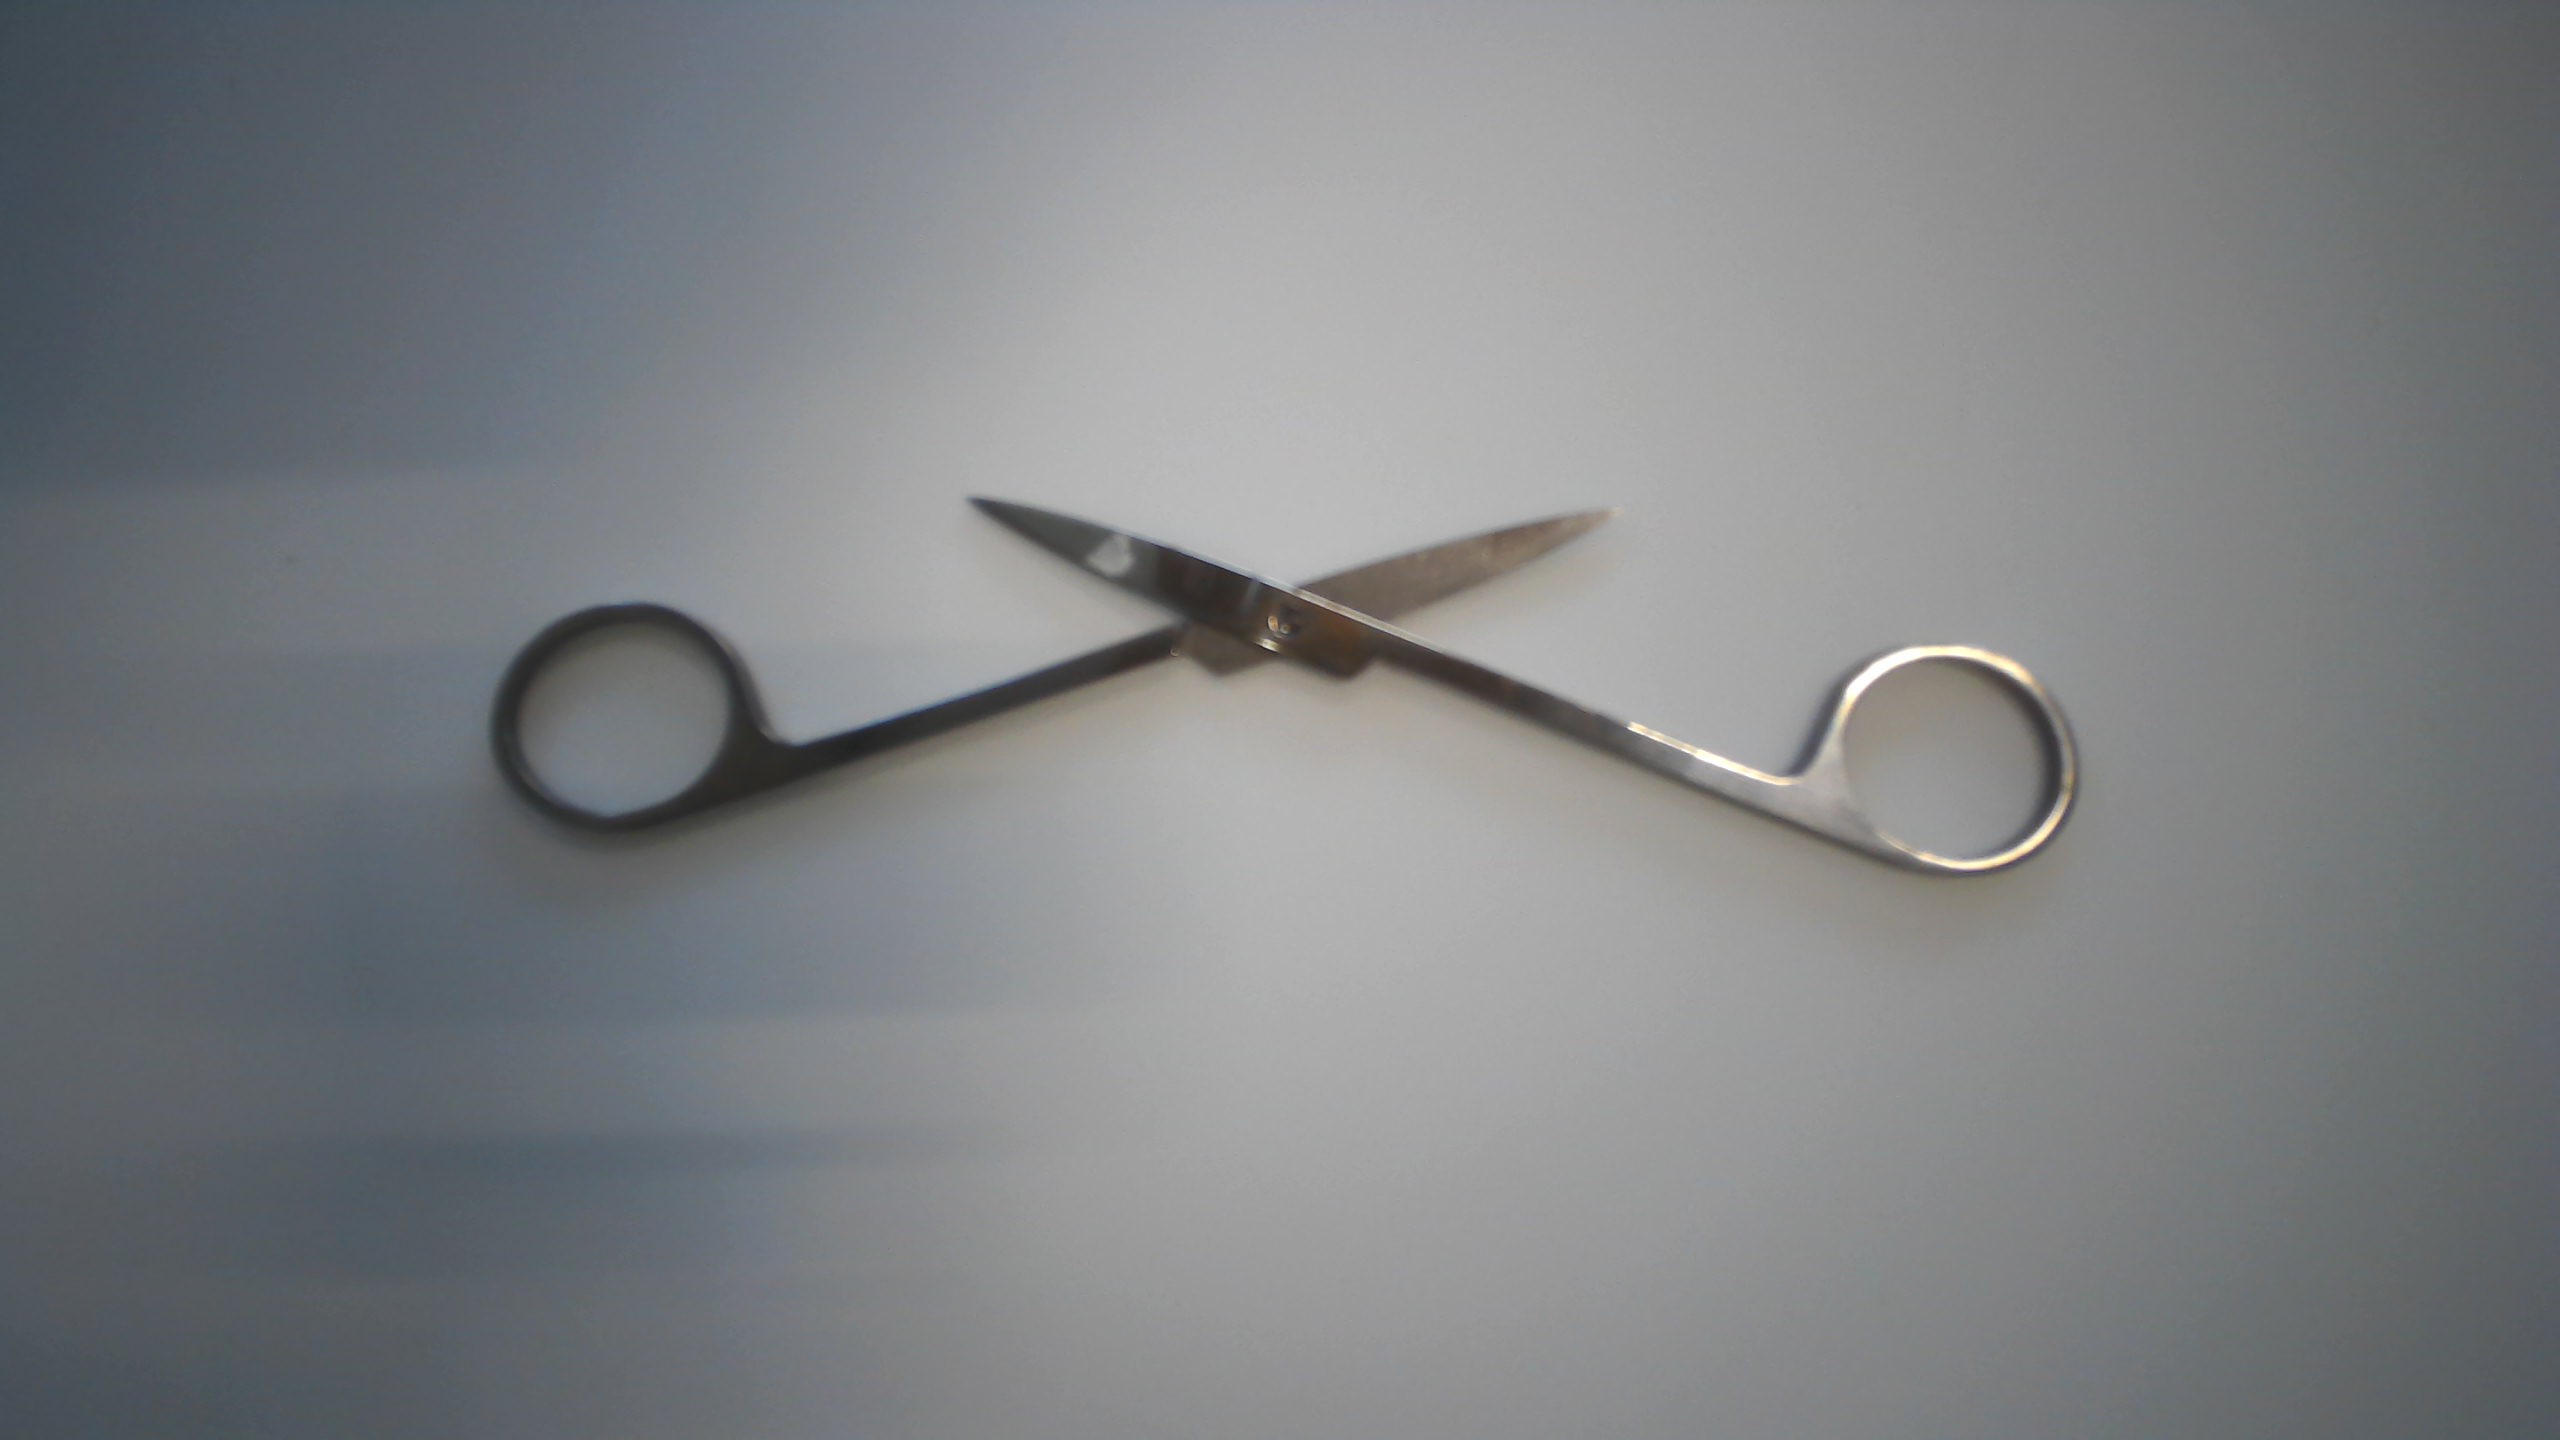Tissues: (1080, 522, 1152, 594)
